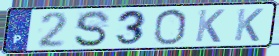2: (38, 11, 69, 49)
3: (115, 9, 147, 48)
K: (193, 8, 226, 44), (232, 7, 265, 43)
O: (151, 8, 189, 46)
S: (72, 10, 112, 49)
